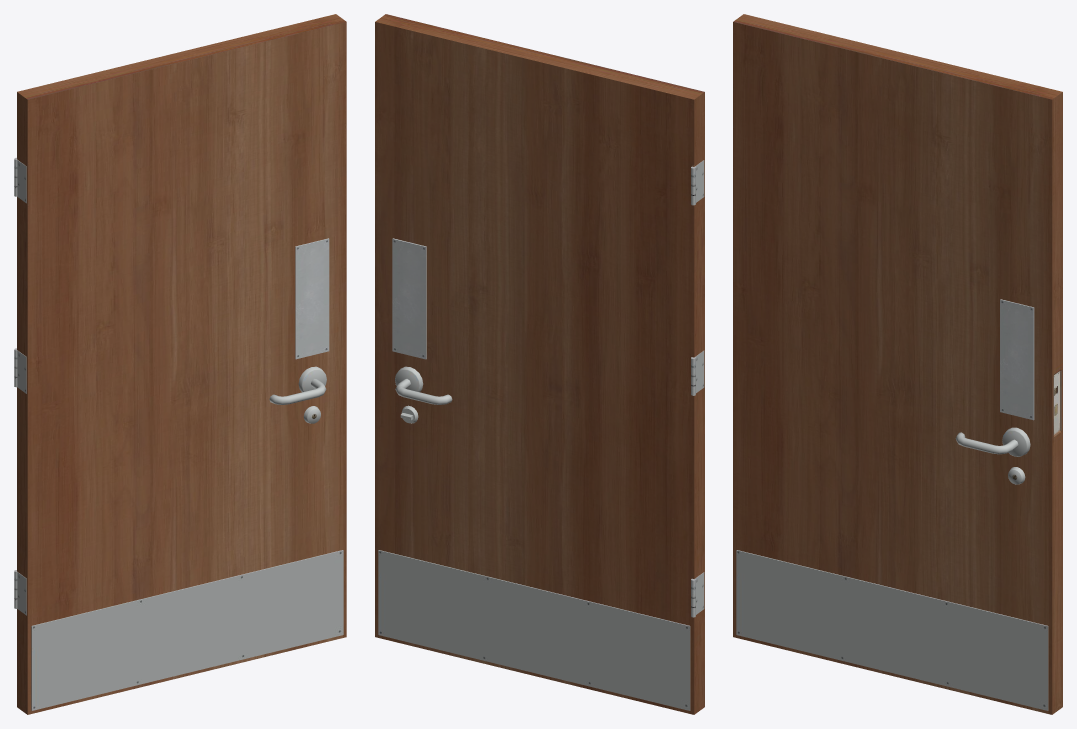
The model's file is SM_Door_01.glb.
3 renders of one model, left to right at view 1: azimuth 30°, elevation 25°; view 2: azimuth 150°, elevation 25°; view 3: azimuth 330°, elevation 25°, orthographic.
Visible parts, largest first — view 1: SM_Door_01; view 2: SM_Door_01; view 3: SM_Door_01.
Part boxes in pixels (bbox=[...]): SM_Door_01: bbox=[14, 14, 346, 714]; SM_Door_01: bbox=[375, 14, 704, 714]; SM_Door_01: bbox=[733, 14, 1062, 714].
Bounding box in the file's own units: 1.31 × 2.39 × 0.303.
1 material, 1 textured.
